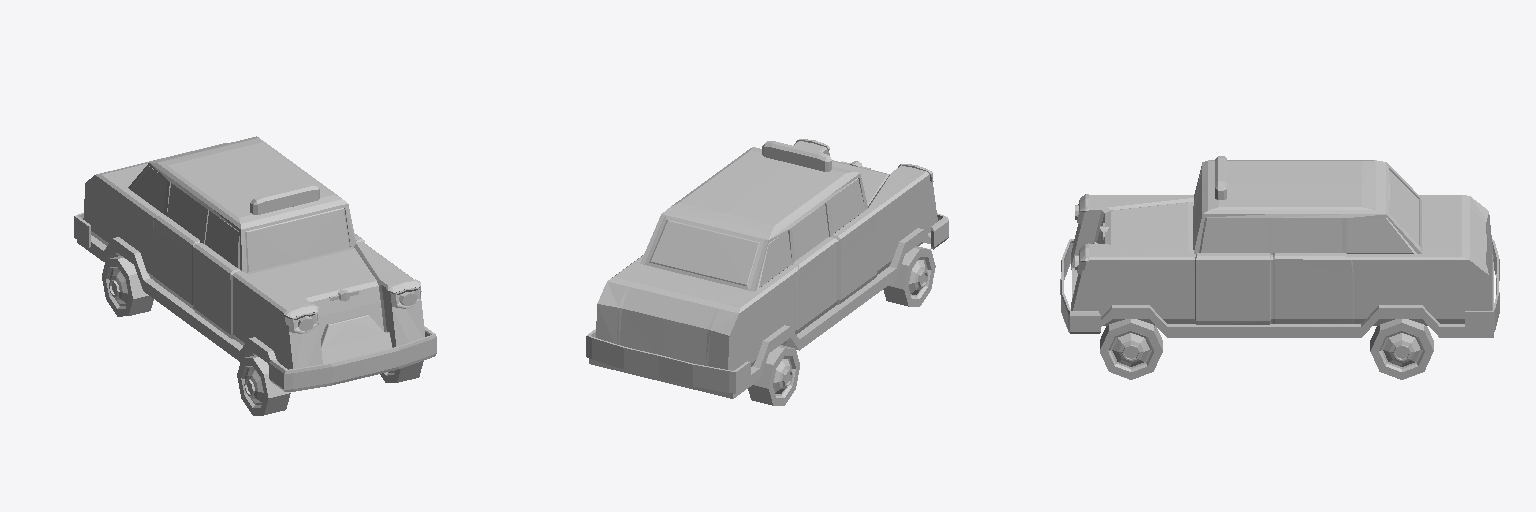
Rendered from TaxiCar.obj.
3 views of the same model, side by side, from view 1: azimuth 30°, elevation 25°; view 2: azimuth 150°, elevation 25°; view 3: azimuth 270°, elevation 25° (orthographic).
Visible parts, largest first — view 1: Hood_Cube.001, Bottom_Cube.002, Windows_Cube.009, Doors_Cube.012, Wheels_Cylinder.003, Sign_Cube.007, Shade_Cube.004; view 2: Hood_Cube.001, Bottom_Cube.002, Windows_Cube.009, Doors_Cube.012, Wheels_Cylinder.003, Sign_Cube.007; view 3: Hood_Cube.001, Doors_Cube.012, Windows_Cube.009, Bottom_Cube.002, Wheels_Cylinder.003.
Part boxes in pixels (bbox=[...]): Hood_Cube.001: bbox=[83, 136, 424, 369]; Bottom_Cube.002: bbox=[74, 213, 436, 391]; Windows_Cube.009: bbox=[131, 166, 349, 272]; Doors_Cube.012: bbox=[153, 215, 364, 338]; Wheels_Cylinder.003: bbox=[102, 256, 423, 415]; Sign_Cube.007: bbox=[250, 184, 319, 214]; Shade_Cube.004: bbox=[284, 279, 421, 326]; Hood_Cube.001: bbox=[596, 141, 937, 370]; Bottom_Cube.002: bbox=[586, 213, 948, 398]; Windows_Cube.009: bbox=[649, 178, 864, 288]; Doors_Cube.012: bbox=[793, 208, 876, 334]; Wheels_Cylinder.003: bbox=[748, 246, 935, 405]; Sign_Cube.007: bbox=[762, 141, 831, 171]; Hood_Cube.001: bbox=[1071, 160, 1493, 325]; Doors_Cube.012: bbox=[1195, 253, 1353, 324]; Windows_Cube.009: bbox=[1193, 170, 1418, 253]; Bottom_Cube.002: bbox=[1060, 239, 1499, 337]; Wheels_Cylinder.003: bbox=[1100, 319, 1433, 379].
Bounding box in the file's own units: 3.7 × 3.73 × 8.6.